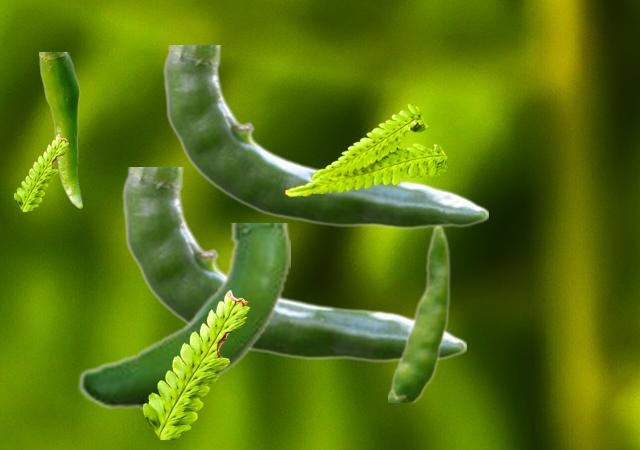green_chili: (122, 167, 465, 361), (163, 45, 487, 228), (77, 223, 289, 410), (388, 228, 450, 401), (39, 52, 81, 207)
